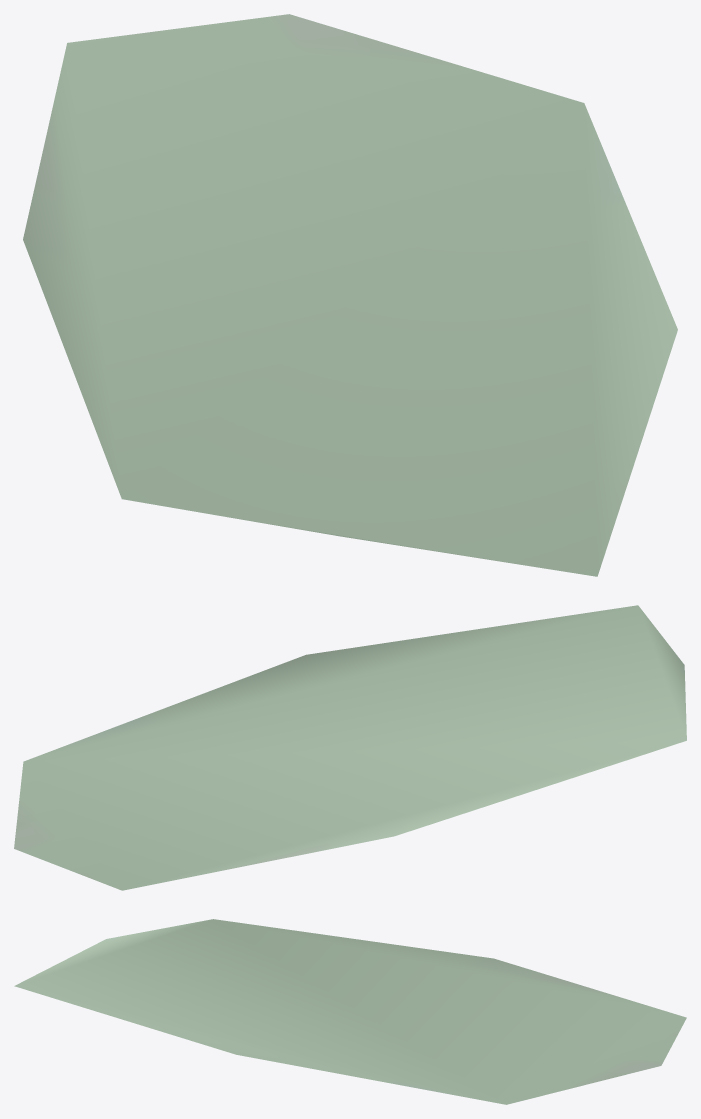
The model's file is TROLLHOLE02_HOLECAP151.fbx.
3 renders of one model, top to bottom at view 1: azimuth 30°, elevation 25°; view 2: azimuth 150°, elevation 25°; view 3: azimuth 270°, elevation 25°, orthographic. The views are drawn at different scales.
Parts seen in each view (by area): view 1: TROLLHOLE02_HOLECAP151; view 2: TROLLHOLE02_HOLECAP151; view 3: TROLLHOLE02_HOLECAP151.
Boxes of the visible parts, x1,y1,x2,y2 form: TROLLHOLE02_HOLECAP151: (23, 14, 677, 576); TROLLHOLE02_HOLECAP151: (14, 605, 686, 890); TROLLHOLE02_HOLECAP151: (14, 919, 686, 1104).
Bounding box in the file's own units: 32511 × 700 × 50151.
Materials: 1 (1 with a texture image).
